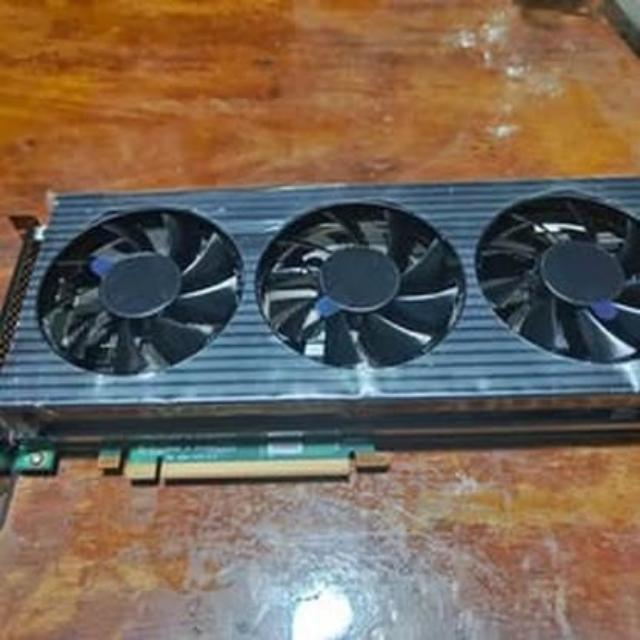GPU: (0, 190, 640, 508)
